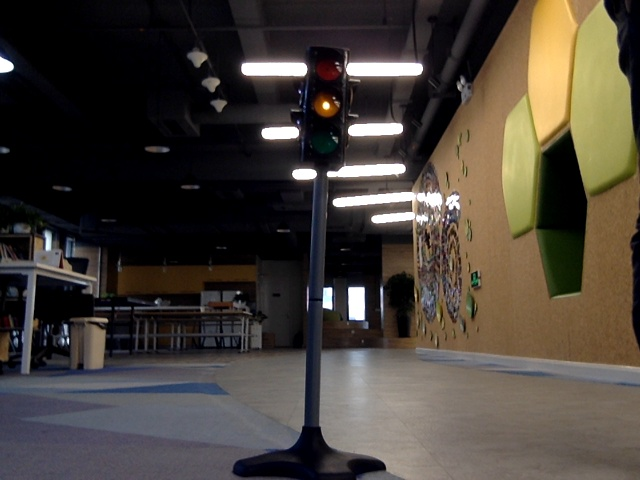yellow: (307, 51, 341, 163)
